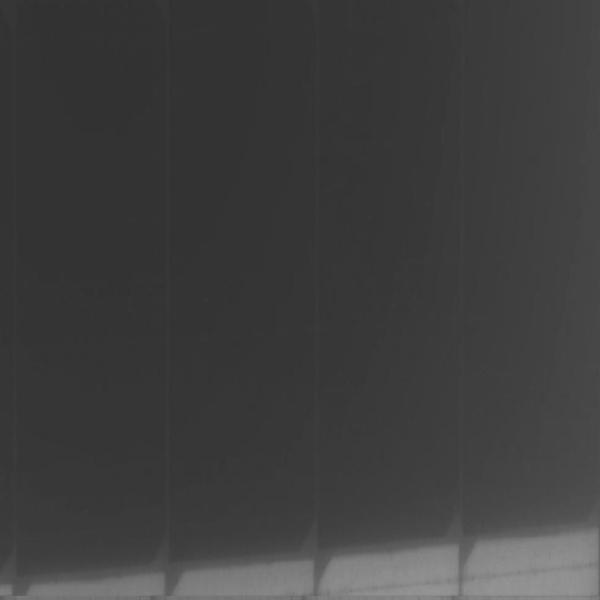no_electricity: (2, 1, 161, 560), (163, 1, 318, 556), (321, 1, 460, 548), (461, 1, 600, 530)
